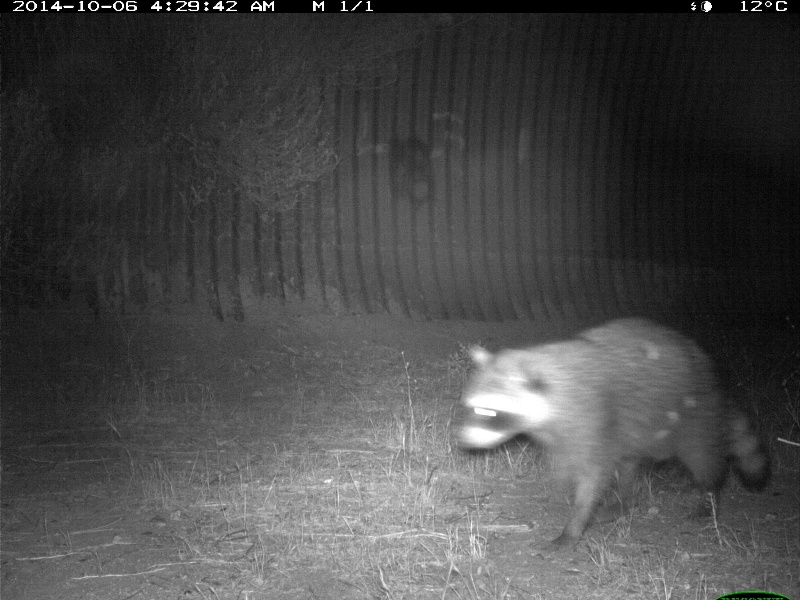raccoon: (455, 320, 769, 551)
